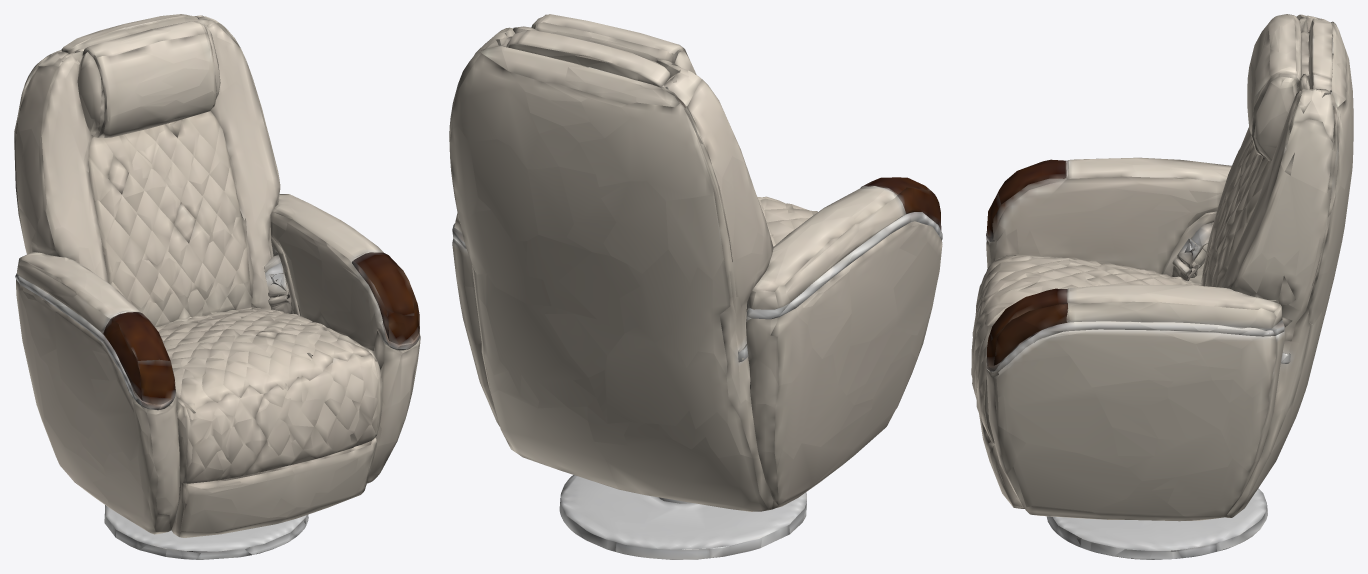
The model's file is cab_seat.glb.
The picture shows the model from 3 angles, left to right: view 1: azimuth 30°, elevation 25°; view 2: azimuth 150°, elevation 25°; view 3: azimuth 270°, elevation 25°; orthographic projection. The views are drawn at different scales.
Parts seen in each view (by area): view 1: LO; view 2: LO; view 3: LO.
Part boxes in pixels (x1=…): LO: x1=14, y1=14, x2=420, y2=559; LO: x1=449, y1=14, x2=942, y2=559; LO: x1=971, y1=14, x2=1353, y2=559.
Size of the model in its own units: 0.7772 by 1.12 by 0.8121.
Materials: 1 (1 with a texture image).
